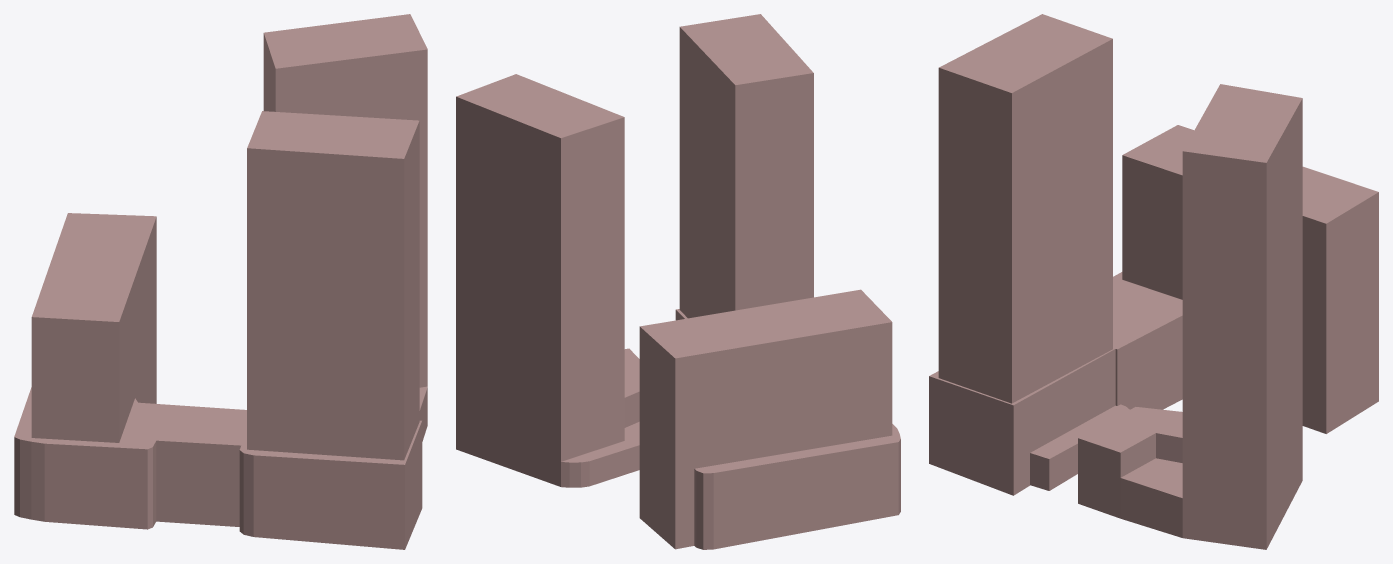
Rendered from 60-dundas-olt-zoning-envelope.glb.
3 renders of one model, left to right at view 1: azimuth 30°, elevation 25°; view 2: azimuth 150°, elevation 25°; view 3: azimuth 270°, elevation 25°, orthographic. The views are drawn at different scales.
Visible parts, largest first — view 1: 60-dundas-olt-zoning-envelope; view 2: 60-dundas-olt-zoning-envelope; view 3: 60-dundas-olt-zoning-envelope.
Part boxes in pixels (x1,y1,x2,y2): 60-dundas-olt-zoning-envelope: (14,14,427,549); 60-dundas-olt-zoning-envelope: (456,14,900,549); 60-dundas-olt-zoning-envelope: (929,14,1378,549).
Size of the model in its own units: 119 by 102 by 104.
